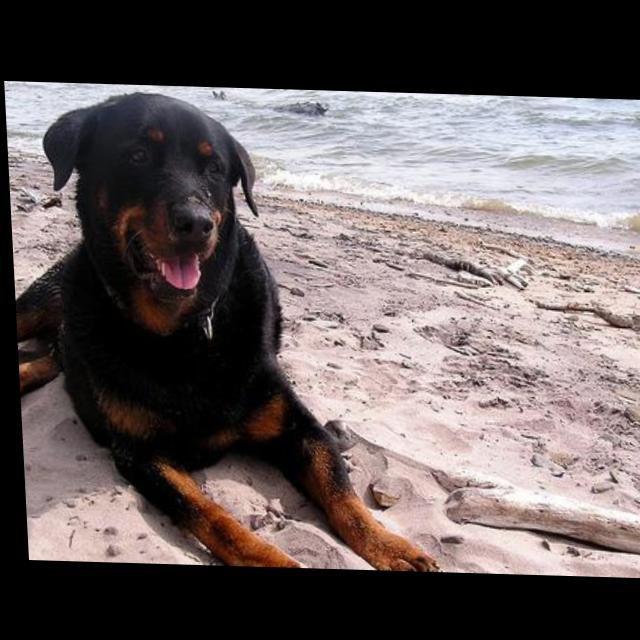rottweiler: (5, 86, 437, 570)
